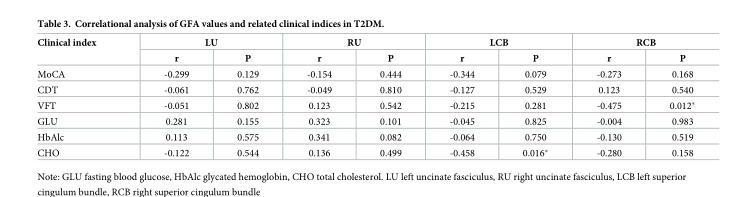table: (36, 37, 693, 158)
table column: (36, 37, 129, 158), (129, 37, 212, 158), (281, 37, 355, 158), (497, 37, 571, 158), (424, 37, 497, 158), (571, 37, 644, 158), (212, 37, 281, 158), (355, 37, 424, 158), (644, 37, 693, 158)
table column header: (36, 37, 693, 65)
table row: (36, 96, 693, 113), (36, 65, 693, 81), (36, 113, 693, 129), (36, 50, 693, 65), (36, 81, 693, 96), (36, 129, 693, 144), (36, 144, 693, 158), (36, 37, 693, 50)
table spanning cell: (36, 37, 129, 65), (129, 37, 281, 50), (424, 37, 571, 50), (281, 37, 424, 50), (571, 37, 693, 50)
